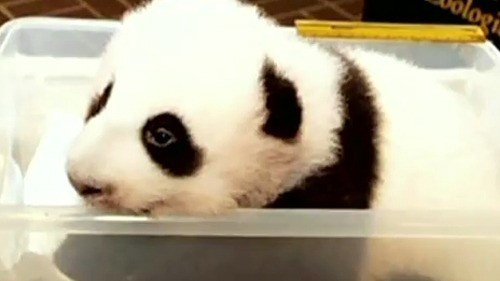panda: (52, 1, 500, 269)
